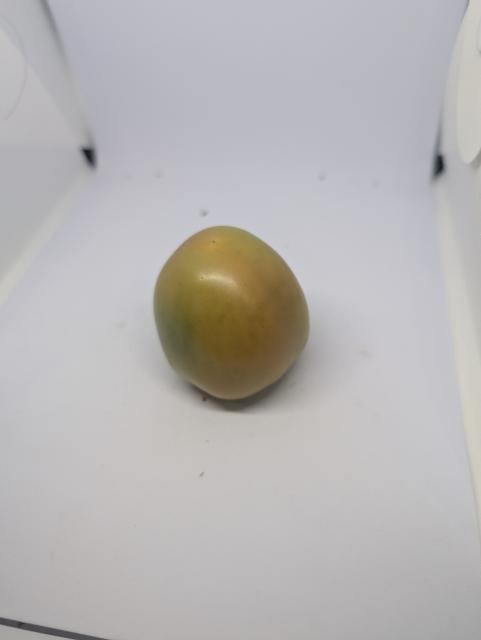turning: (146, 221, 321, 407)
